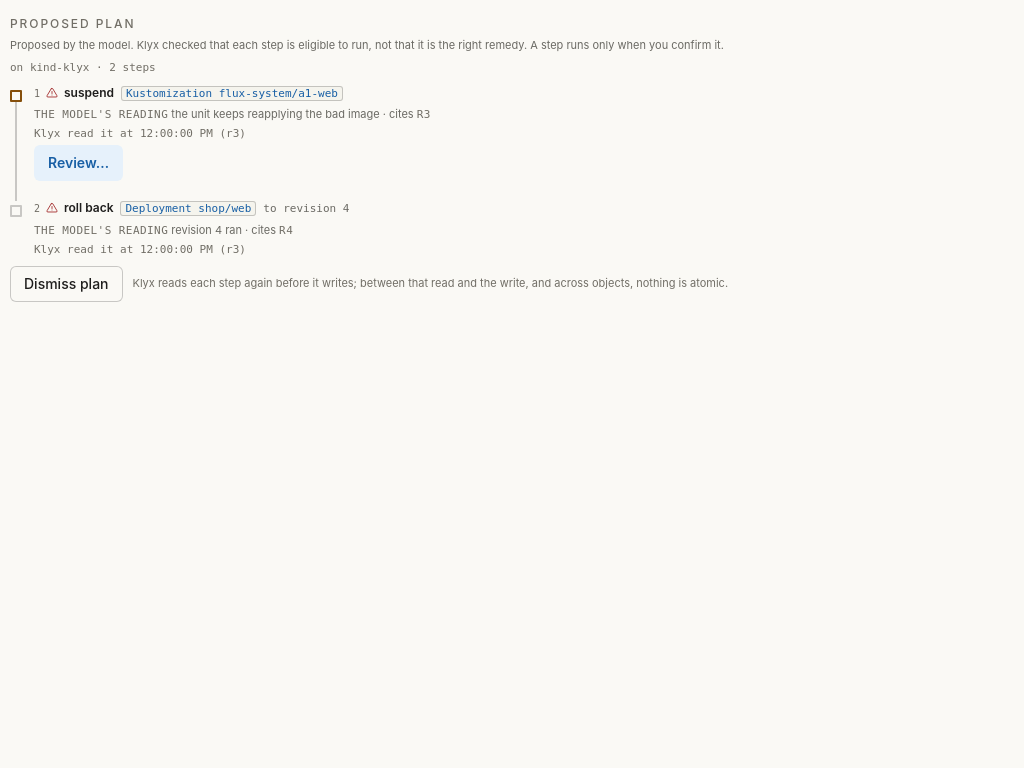
ActionCard › records a lost RunStep answer as unverified
Click the button with test id "act-review" at (78, 163), box x1=34 y1=145 x2=123 y2=181
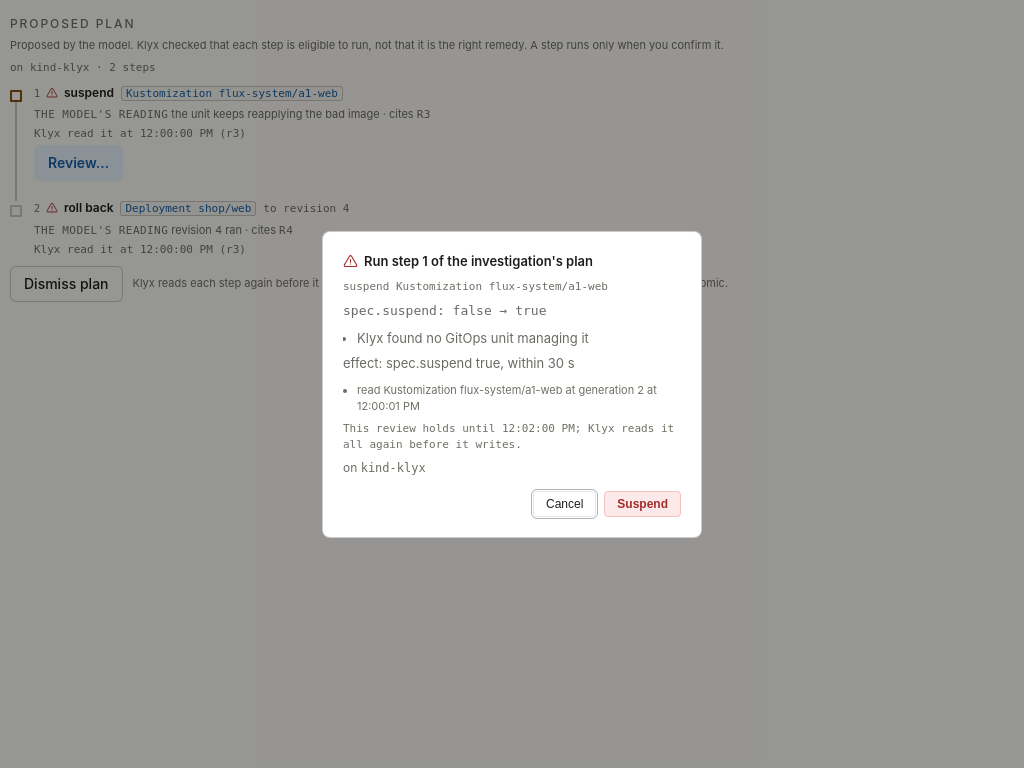
Expected: the dialog is shown, x1=322 y1=230 x2=702 y2=538
Click the button "Suspend" at (643, 504), box x1=604 y1=490 x2=681 y2=516
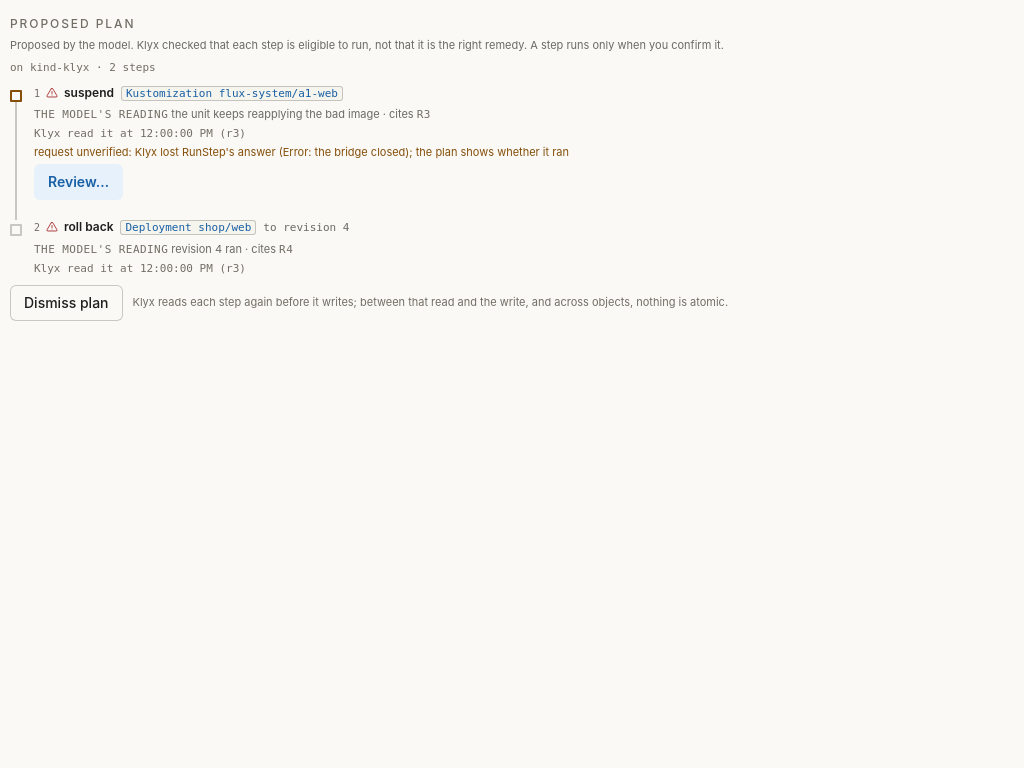
Expected: the message with test id "act-note" shows "request unverified: Klyx lost RunStep's answer", x1=34 y1=145 x2=569 y2=159
